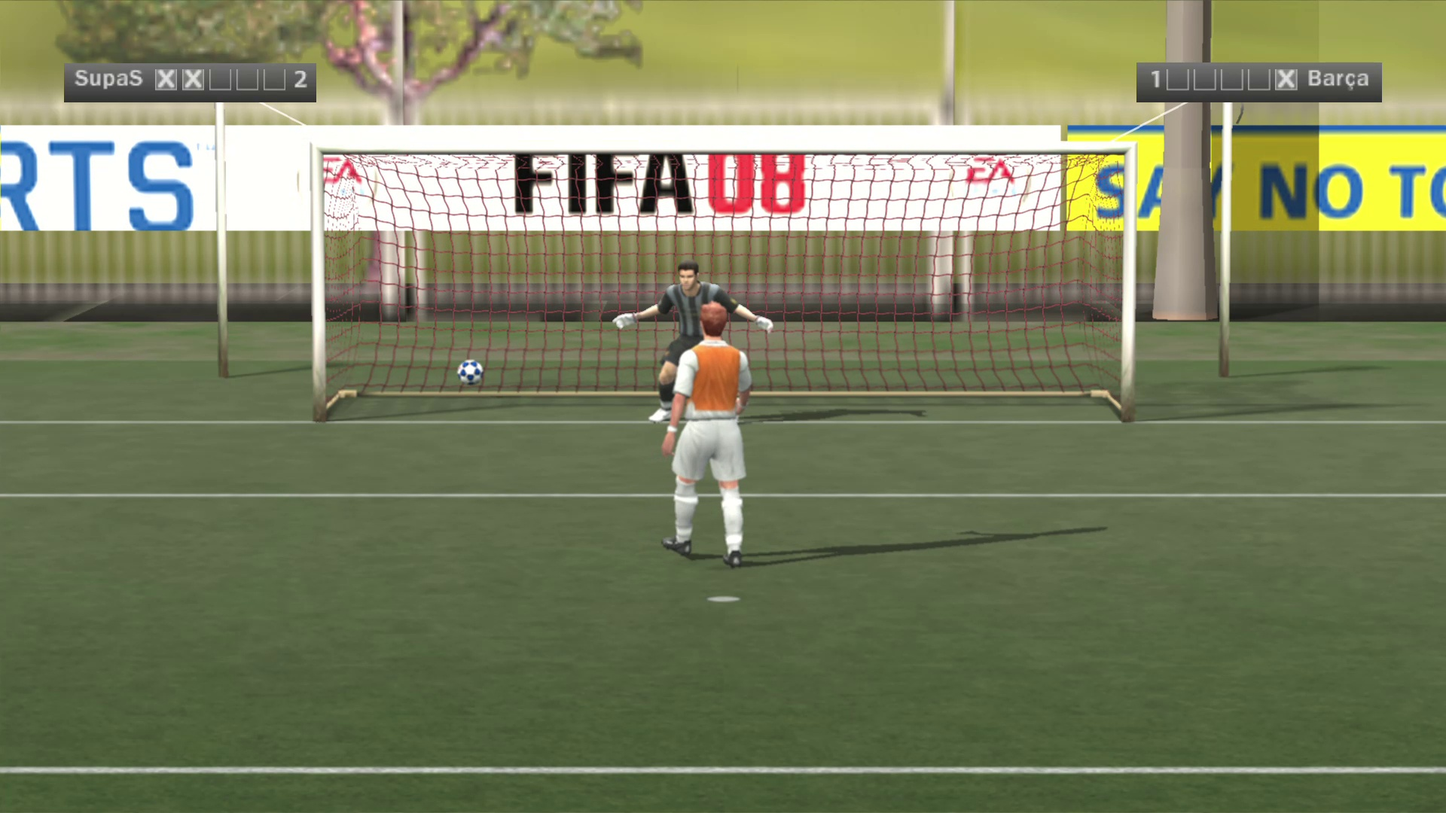ball: (442, 342, 470, 371)
goal_post: (0, 24, 723, 286)
kicker: (624, 173, 708, 433)
